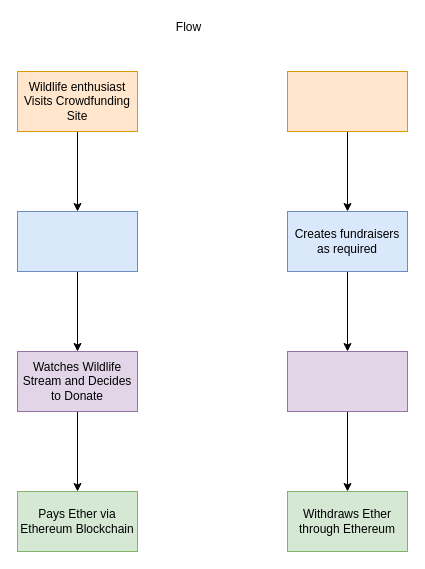
The diagram is 425 pixels wide and 569 high, and some of its shapes have lost their labels. Here are the shapes that lost their labels. From the top down, the centre of each, then its label:
At point 347,101: "Wildlife Preservation Organisation logs into admin account".
At point 77,241: "Checks out Currently open Fundraisers".
At point 347,381: "Streams live feed from cameras from around the park".
